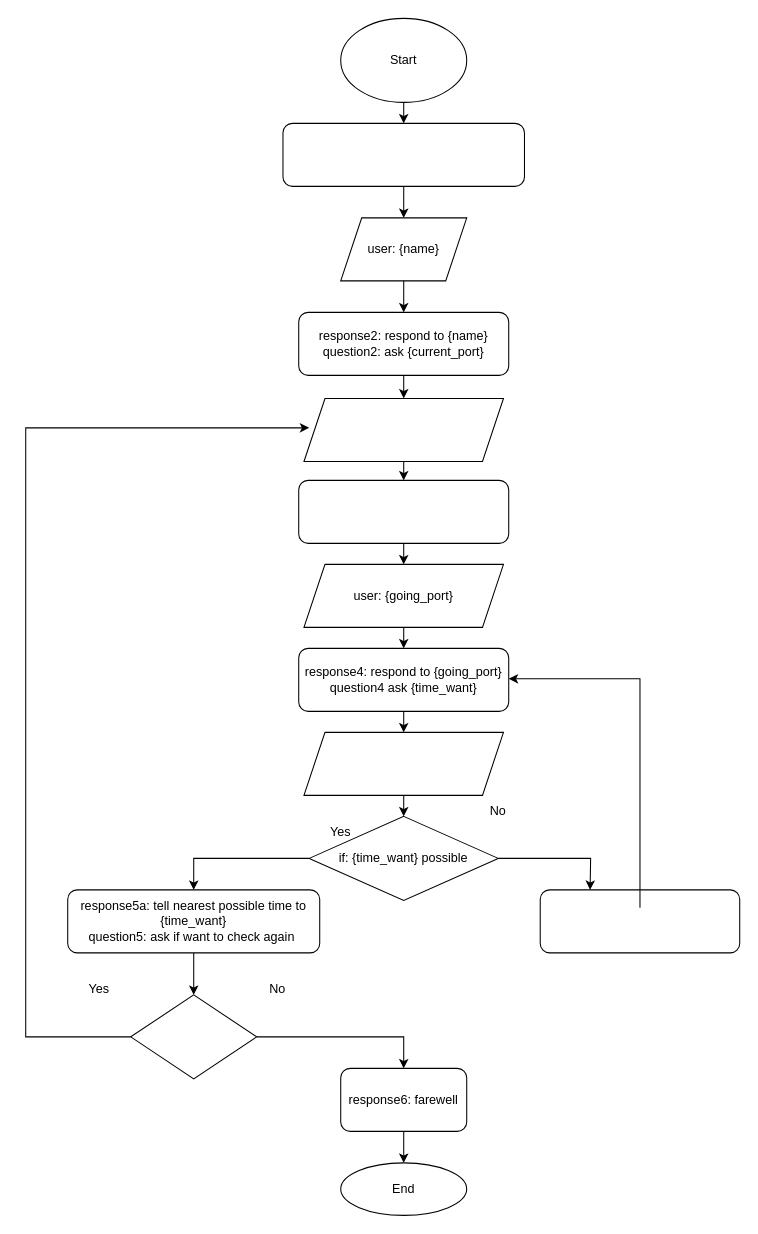
Image size: 758x1234. Some labels were removed from this diagram. The shapes that lost their labels are listed below. From the top down, each one's centre as x and y in pixels, then its label:
At [403,154]: "response1: greetings question1: ask user's {name}".
At [403,429]: "user: {current_port}".
At [403,511]: "response3: respond to {current_port} question3: ask {going_port}".
At [403,763]: "user: {time_want}".
At [639,921]: "response5b: 時間外".
